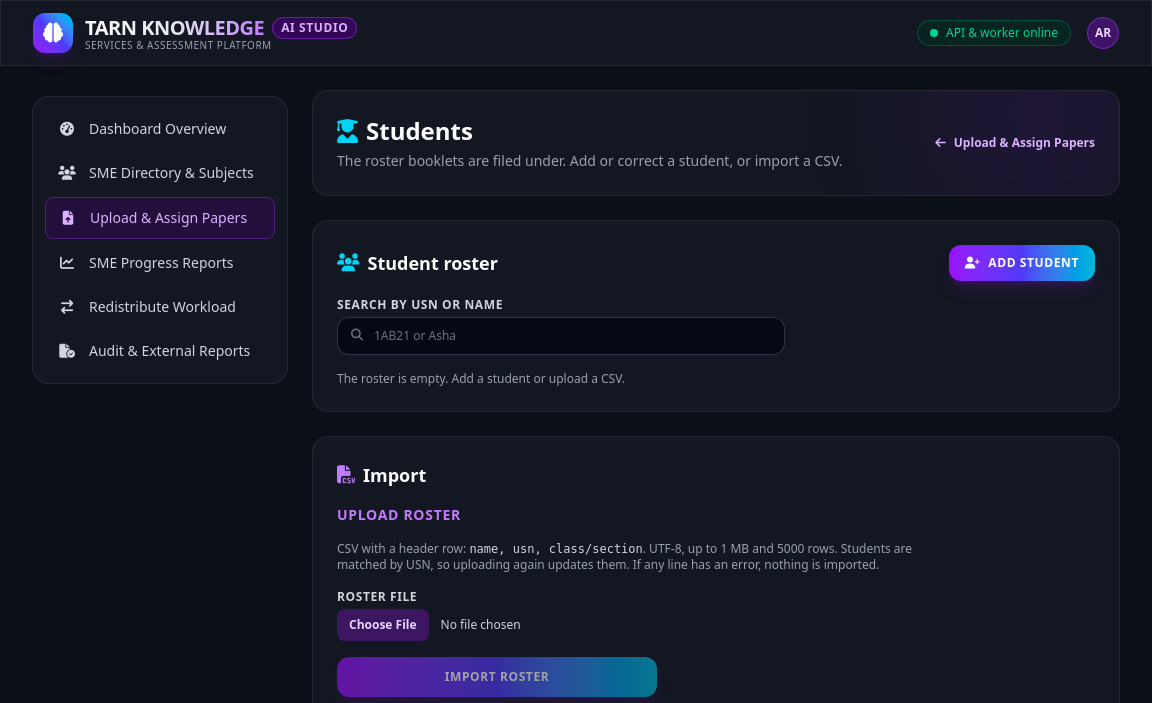
Test: students › searches the roster by USN prefix or name
The image size is (1152, 703).
Expected: the text "The roster is empty. Add a student or upload a CSV." is shown, [337,370,625,387]
Type "1AB21" into the field labelled "Search by USN or name". click: (561, 336)
box: [337,317,785,355]
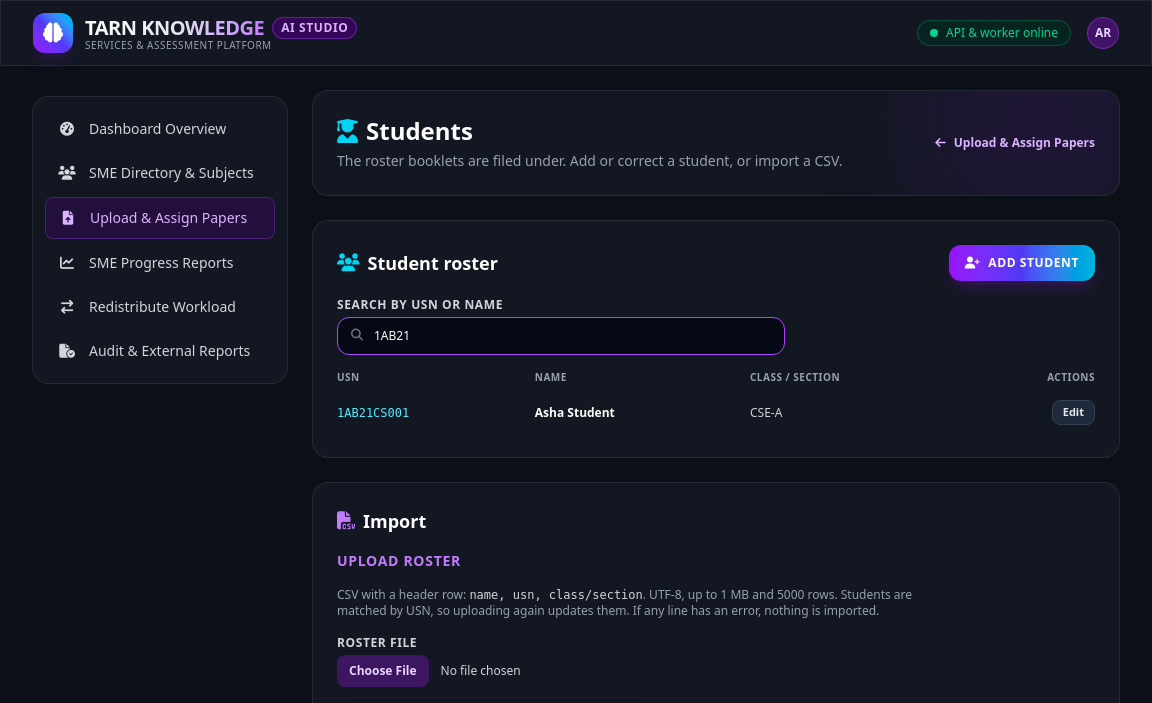
Expected: the cell "1AB21CS001" is shown, [337,392,535,433]
